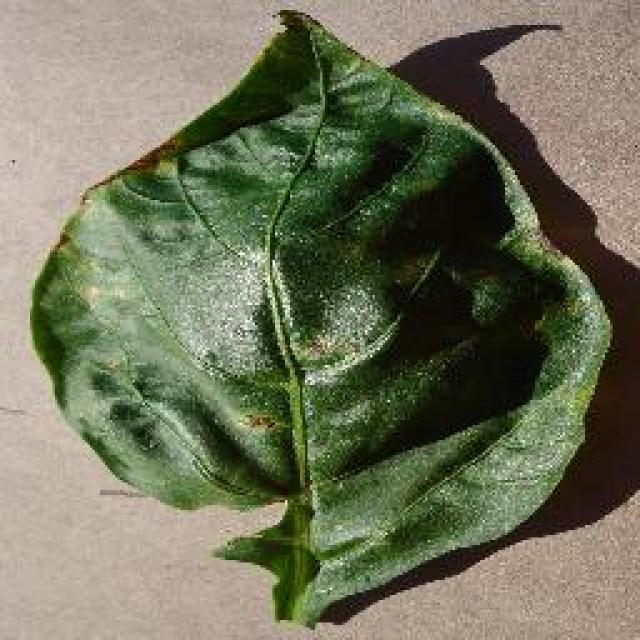Chilli_Bacterial_Spot: (25, 5, 615, 630), (280, 272, 402, 380), (270, 5, 322, 37), (238, 408, 280, 438), (72, 278, 102, 312)
